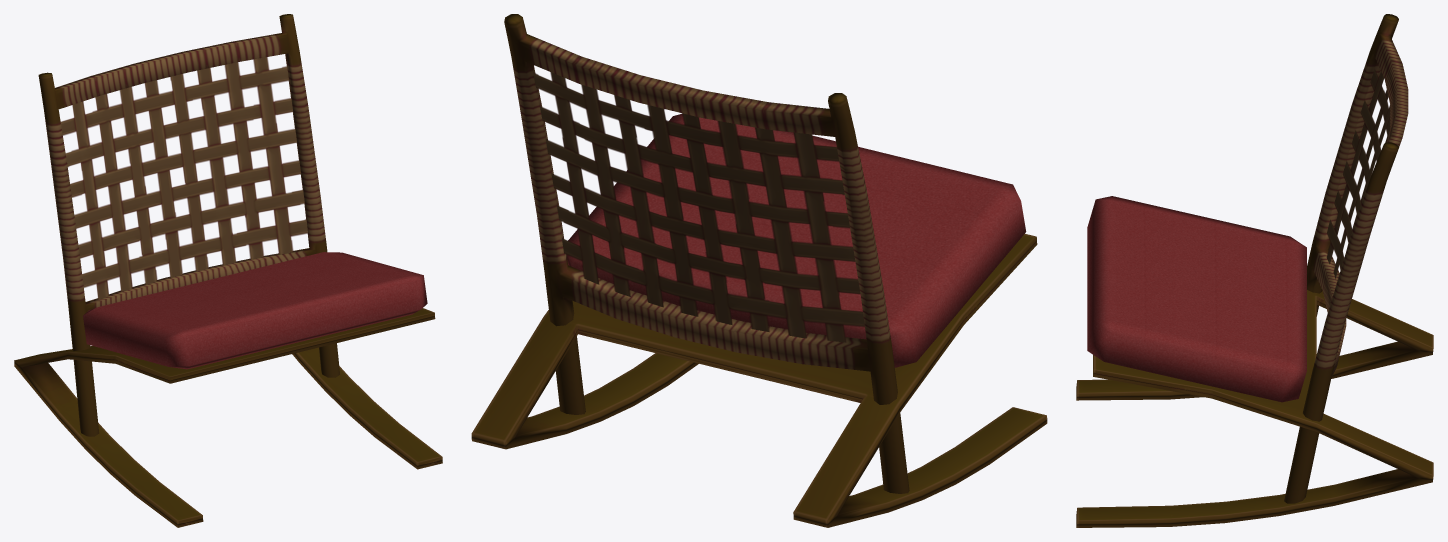
3 renders of one model, left to right at view 1: azimuth 30°, elevation 25°; view 2: azimuth 150°, elevation 25°; view 3: azimuth 270°, elevation 25°, orthographic. The views are drawn at different scales.
Visible parts, largest first — view 1: low_poly_e_4, low_poly_e_2, low_poly_e_3, low_poly_e_1; view 2: low_poly_e_4, low_poly_e_2, low_poly_e_3, low_poly_e_1; view 3: low_poly_e_2, low_poly_e_1, low_poly_e_3, low_poly_e_4.
Part boxes in pixels (box(x1,y1,x2,y2)): low_poly_e_4: box(60, 57, 307, 299); low_poly_e_2: box(83, 252, 427, 369); low_poly_e_3: box(38, 14, 339, 436); low_poly_e_1: box(14, 308, 442, 527); low_poly_e_4: box(533, 72, 864, 342); low_poly_e_2: box(566, 113, 1026, 367); low_poly_e_3: box(504, 14, 909, 493); low_poly_e_1: box(471, 234, 1047, 527); low_poly_e_2: box(1087, 196, 1306, 402); low_poly_e_1: box(1076, 290, 1433, 527); low_poly_e_3: box(1284, 14, 1408, 503); low_poly_e_4: box(1326, 69, 1390, 279).
Bounding box in the file's own units: 8.58 × 10.71 × 9.18.
1 material, 1 textured.
